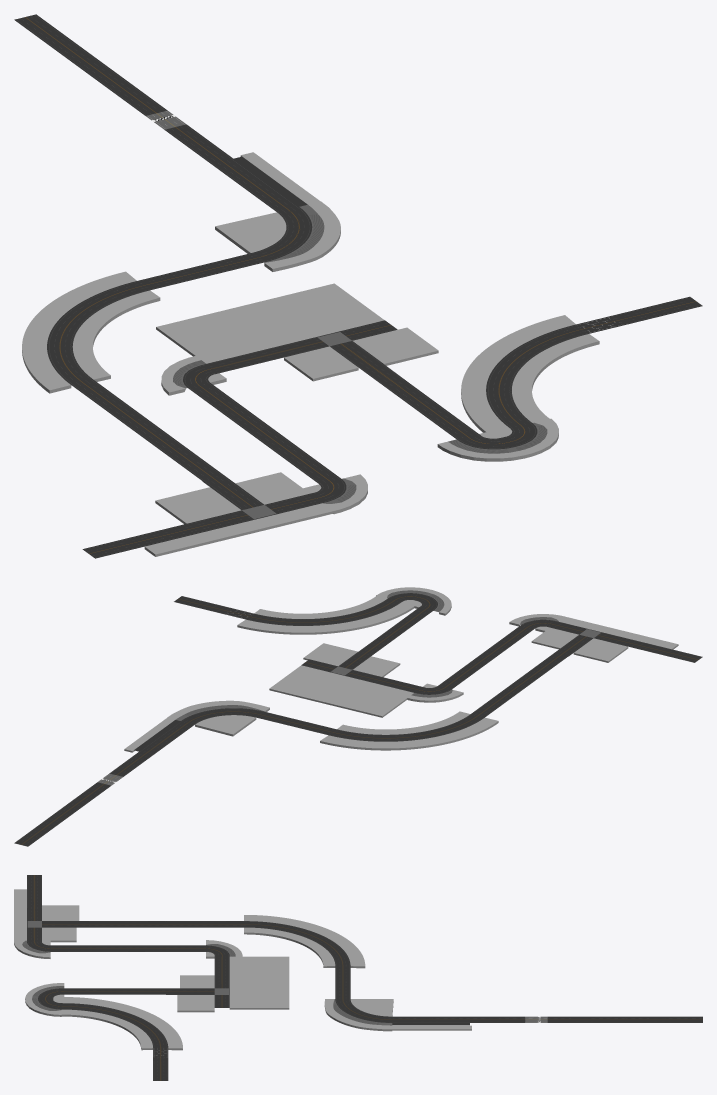
File: level_5.fbx
3 renders of one model, top to bottom at view 1: azimuth 30°, elevation 25°; view 2: azimuth 150°, elevation 25°; view 3: azimuth 270°, elevation 25°, orthographic. The views are drawn at different scales.
Visible parts, largest first — view 1: pCube7, pCube2, road_line49, polySurface405, road_line53, pCube6, polySurface404, pCube1, road_turn_roadsideR7, road_turn_roadsideR6, mallturnBacksideR6, road_turn_roadsideR5 (+29 smaller); view 2: pCube7, road_line49, road_turn_roadsideR5, road_turn_roadsideR, polySurface405, road_turn_roadsideR7, road_turn_roadsideR6, pCube2, polySurface404, road_line53, pCube1, pCube6 (+25 smaller); view 3: pCube7, road_line49, road_line53, polySurface405, pCube6, pCube2, road_turn_roadsideR, road_turn_roadsideR5, road_turn_roadsideR6, polySurface404, road_turn_roadsideR7, pCube1 (+26 smaller).
Boxes of the visible parts, x1=… form: pCube7: x1=156, y1=283, x2=384, y2=363; pCube2: x1=144, y1=503, x2=333, y2=556; road_line49: x1=196, y1=476, x2=322, y2=530; polySurface405: x1=251, y1=204, x2=324, y2=262; road_line53: x1=211, y1=156, x2=307, y2=211; pCube6: x1=352, y1=327, x2=438, y2=365; polySurface404: x1=215, y1=212, x2=286, y2=253; pCube1: x1=155, y1=487, x2=241, y2=524; road_turn_roadsideR7: x1=22, y1=324, x2=71, y2=393; road_turn_roadsideR6: x1=461, y1=367, x2=509, y2=433; mallturnBacksideR6: x1=437, y1=431, x2=524, y2=461; road_turn_roadsideR5: x1=29, y1=271, x2=136, y2=326; pCube7: x1=269, y1=665, x2=413, y2=717; road_line49: x1=551, y1=621, x2=630, y2=656; road_turn_roadsideR5: x1=320, y1=735, x2=419, y2=750; road_turn_roadsideR: x1=237, y1=619, x2=335, y2=634; polySurface405: x1=175, y1=705, x2=264, y2=724; road_turn_roadsideR7: x1=415, y1=717, x2=498, y2=748; road_turn_roadsideR6: x1=333, y1=602, x2=415, y2=632; pCube2: x1=559, y1=616, x2=678, y2=649; polySurface404: x1=195, y1=715, x2=256, y2=736; road_line53: x1=134, y1=720, x2=194, y2=754; pCube1: x1=573, y1=638, x2=628, y2=662; pCube6: x1=303, y1=643, x2=357, y2=665; pCube7: x1=229, y1=956, x2=289, y2=1009; road_line49: x1=27, y1=908, x2=88, y2=940; road_line53: x1=392, y1=1016, x2=469, y2=1025; polySurface405: x1=333, y1=999, x2=392, y2=1025; pCube6: x1=177, y1=995, x2=214, y2=1012; pCube2: x1=14, y1=889, x2=26, y2=940; road_turn_roadsideR: x1=137, y1=1012, x2=182, y2=1050; road_turn_roadsideR5: x1=320, y1=930, x2=365, y2=968; road_turn_roadsideR6: x1=61, y1=997, x2=146, y2=1016; polySurface404: x1=350, y1=999, x2=393, y2=1016; road_turn_roadsideR7: x1=244, y1=915, x2=329, y2=934; pCube1: x1=42, y1=905, x2=79, y2=920.
Size of the model in its own units: 62992 by 275 by 89059.
